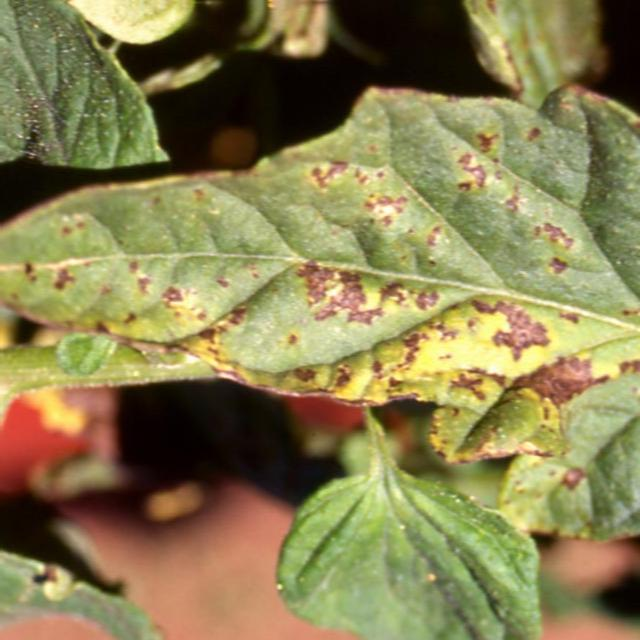Tomato leaf bacterial spot: (0, 75, 640, 535), (259, 420, 576, 640)
